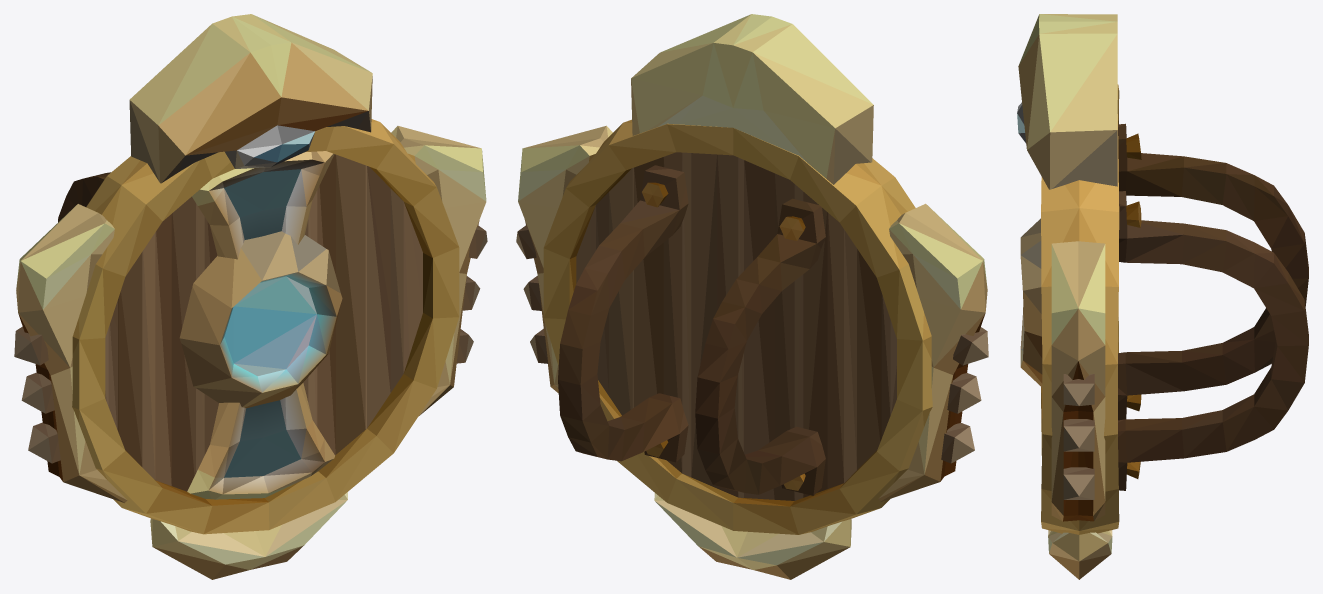
The model's file is weapon_shield_gold_3.fbx.
3 renders of one model, left to right at view 1: azimuth 30°, elevation 25°; view 2: azimuth 150°, elevation 25°; view 3: azimuth 270°, elevation 25°, orthographic.
Parts seen in each view (by area): view 1: weapon_shield_gold_3; view 2: weapon_shield_gold_3; view 3: weapon_shield_gold_3.
Part boxes in pixels (box(x1,y1,x2,y2)): weapon_shield_gold_3: box(14, 14, 487, 579); weapon_shield_gold_3: box(516, 14, 988, 579); weapon_shield_gold_3: box(1017, 14, 1308, 579).
Size of the model in its own units: 0.8146 by 0.8882 by 0.4345.
